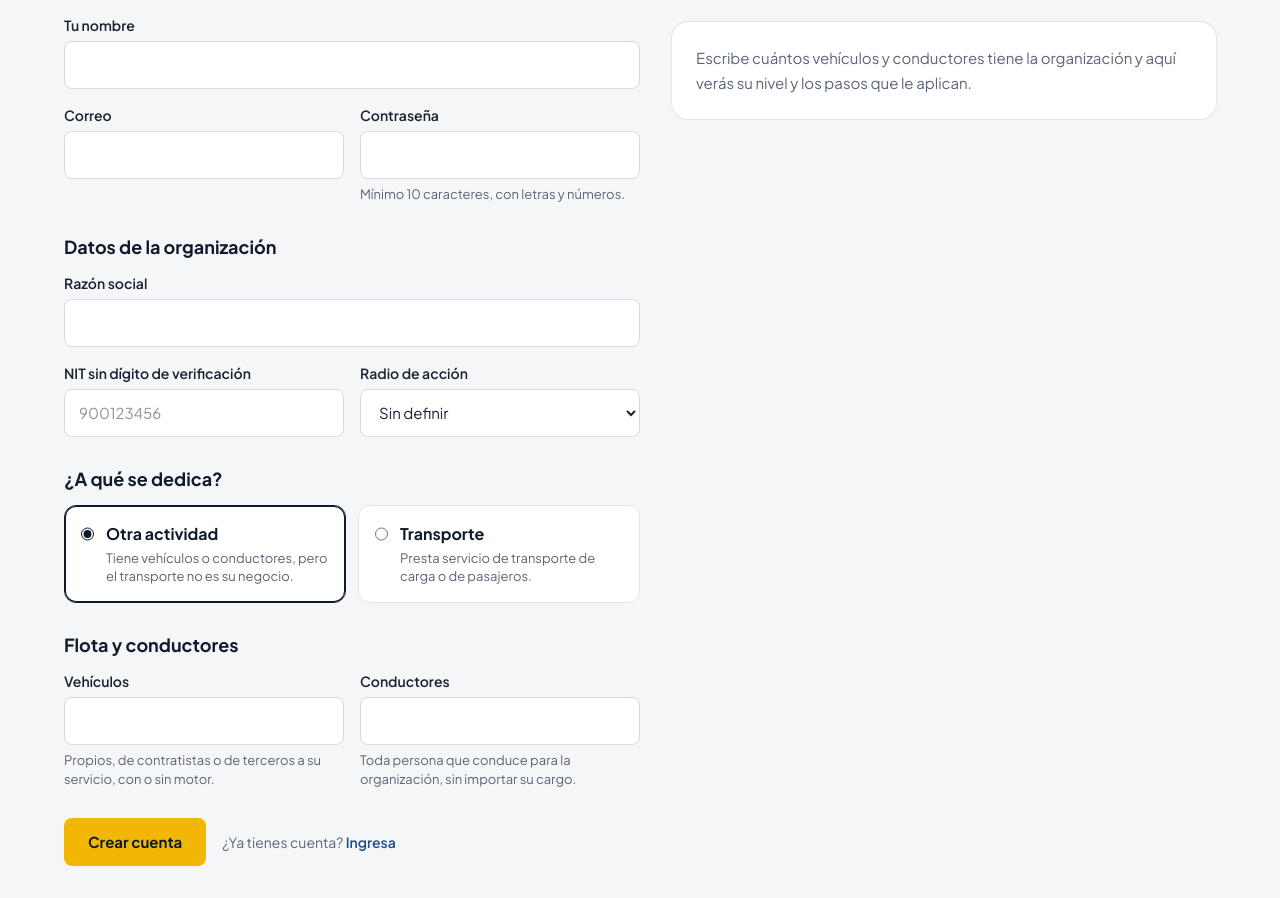
Test: Registro › avisa cuando la organización no está obligada y bloquea el registro
This screenshot has width=1280, height=898.
(page scrolled)
In the number field labelled "Vehículos": (204, 720) [64,696,344,744], type "4"
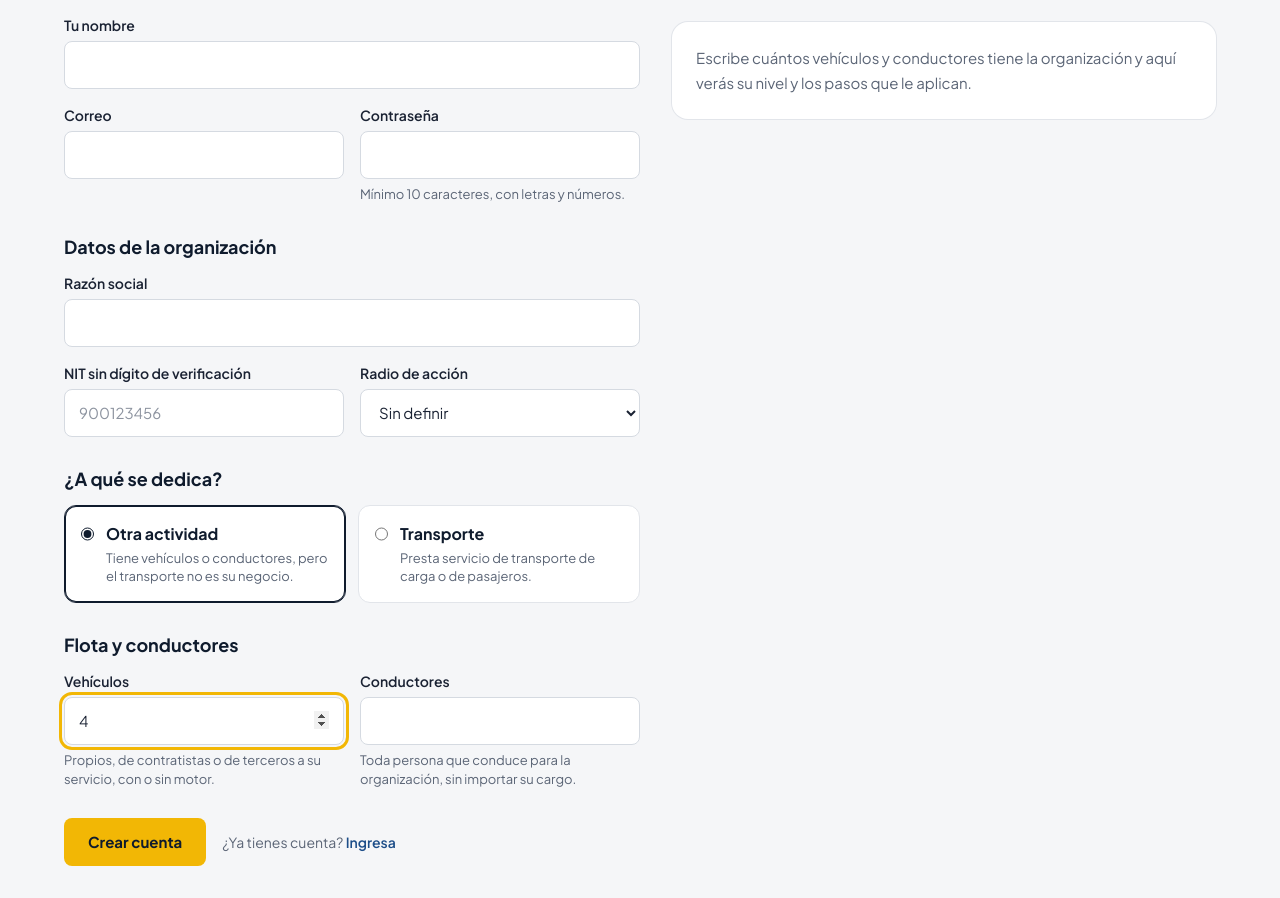
In the number field labelled "Conductores": (500, 720) [360,696,640,744], type "1"
(page scrolled)
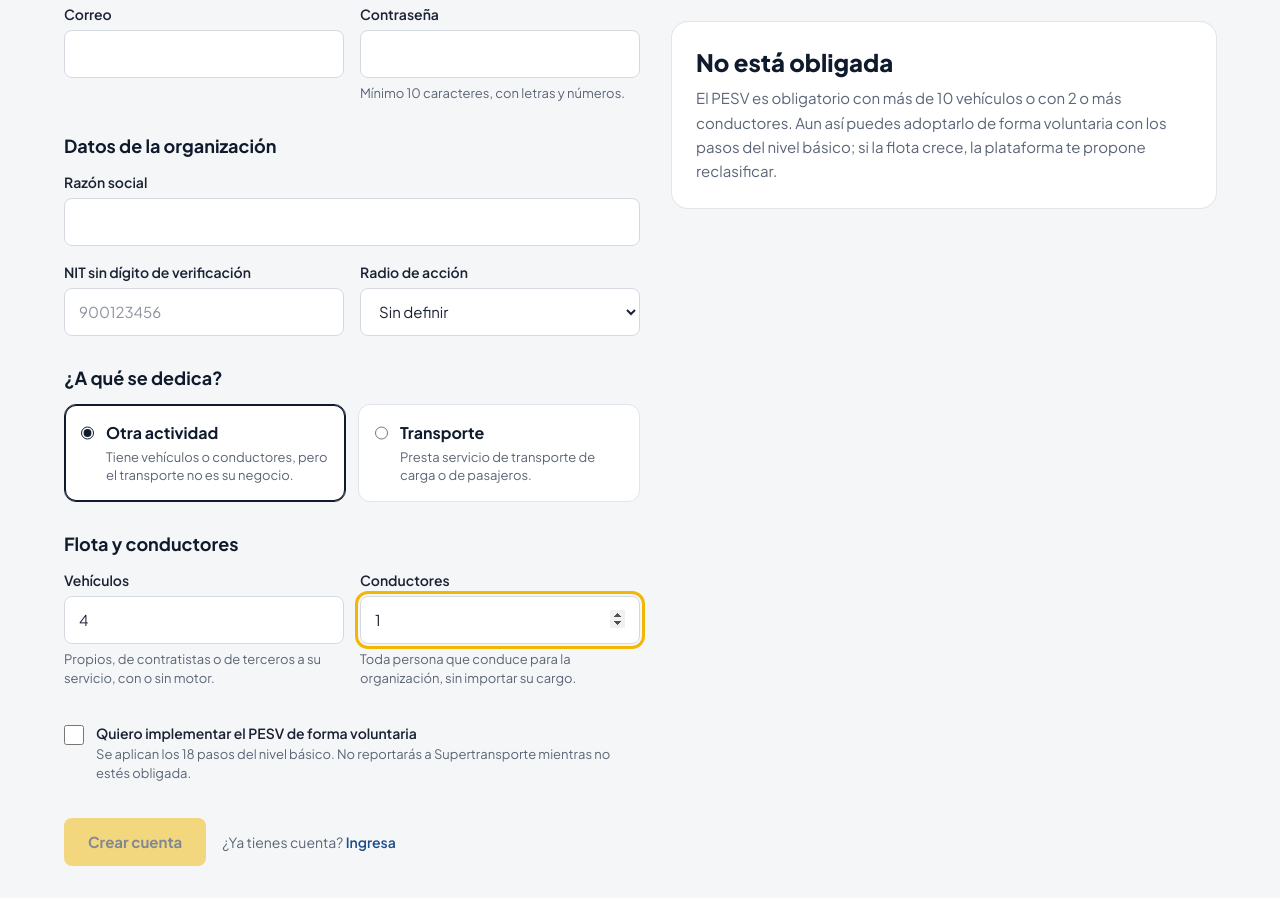
expect the text "No está obligada" is shown: met, box [696,47,893,77]
expect the button "Crear cuenta" is disabled: met, box [64,818,206,866]
